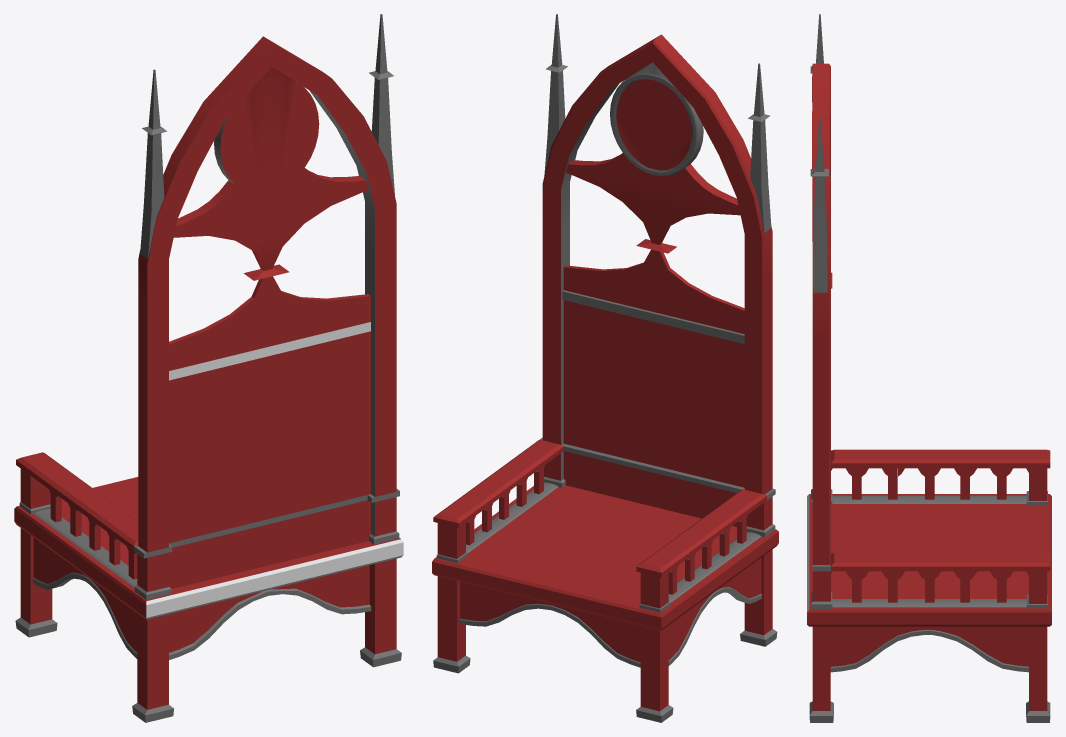
Rendered from throne.fbx.
3 views of the same model, side by side, from view 1: azimuth 30°, elevation 25°; view 2: azimuth 150°, elevation 25°; view 3: azimuth 270°, elevation 25° (orthographic). The views are drawn at different scales.
Parts seen in each view (by area): view 1: Stuhl; view 2: Stuhl; view 3: Stuhl.
Part boxes in pixels (box(x1,y1,x2,y2)): Stuhl: box(14, 14, 403, 722); Stuhl: box(432, 14, 778, 722); Stuhl: box(807, 14, 1051, 722).
Bounding box in the file's own units: 75.18 × 181 × 66.75.
